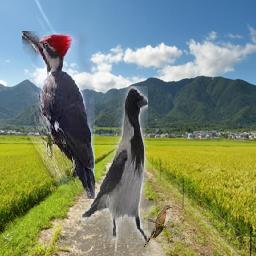Crow: (82, 86, 149, 244)
Cuckoo: (144, 205, 173, 248)
Woodpecker: (23, 31, 96, 199)
